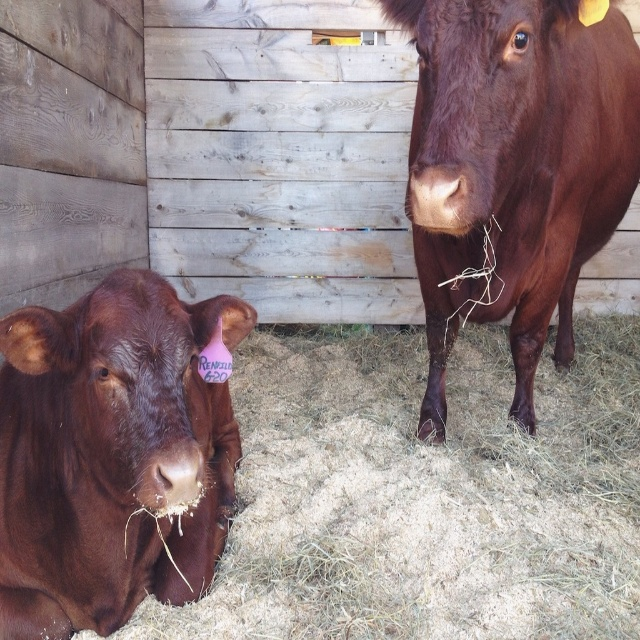Bull: (369, 0, 640, 447), (0, 270, 256, 639)
